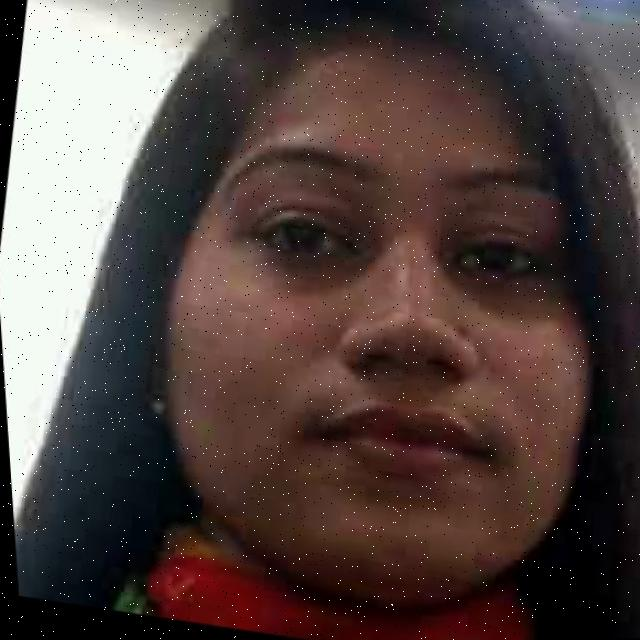puffy_eyes: (442, 272, 557, 321), (261, 257, 371, 295)
